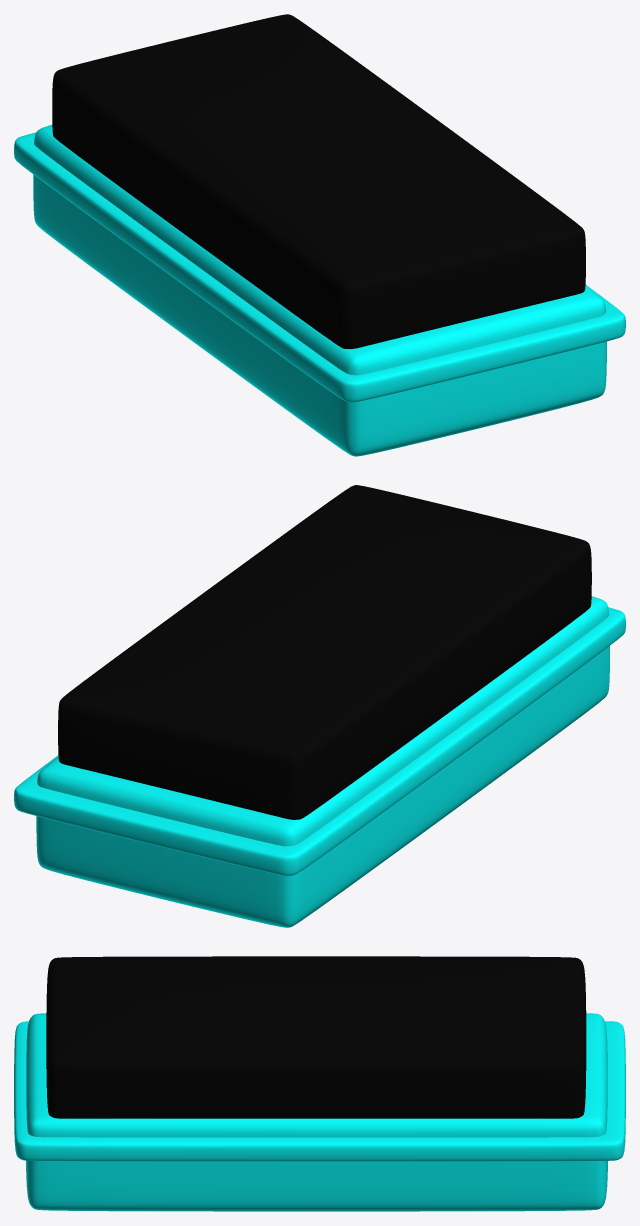
File: PENGHAPUS.obj
3 views of the same model, one above another, from view 1: azimuth 30°, elevation 25°; view 2: azimuth 150°, elevation 25°; view 3: azimuth 270°, elevation 25° (orthographic). The views are drawn at different scales.
Visible parts, largest first — view 1: Cube.001, Cube, Cube.002; view 2: Cube.001, Cube, Cube.002; view 3: Cube.001, Cube, Cube.002.
Part boxes in pixels (bbox=[...]): Cube.001: bbox=[52, 14, 585, 348]; Cube: bbox=[33, 125, 606, 456]; Cube.002: bbox=[14, 132, 625, 402]; Cube.001: bbox=[58, 485, 591, 819]; Cube: bbox=[36, 596, 609, 927]; Cube.002: bbox=[14, 607, 625, 875]; Cube.001: bbox=[46, 956, 586, 1118]; Cube: bbox=[26, 1013, 607, 1211]; Cube.002: bbox=[14, 1021, 625, 1161].
Size of the model in its own units: 3.4 by 1.95 by 6.99.
